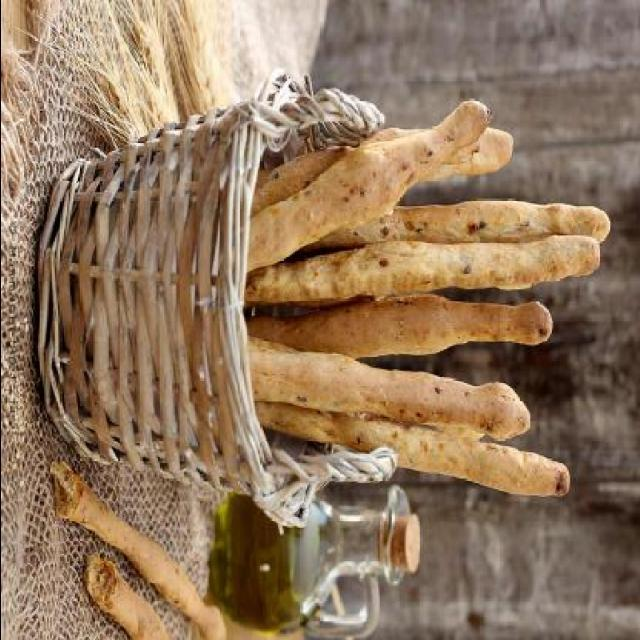Grissini: (237, 96, 614, 502)
